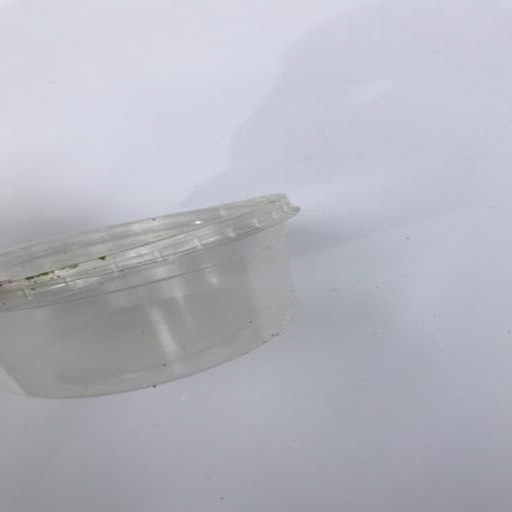Plastic_5: (5, 193, 305, 398)
